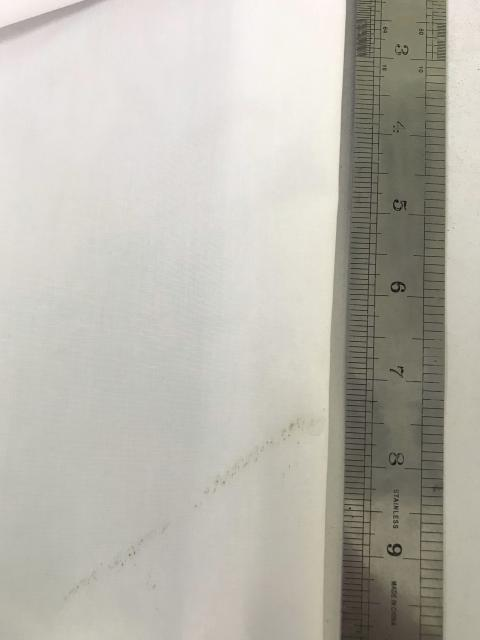Dirty_mark: (56, 406, 326, 611)
